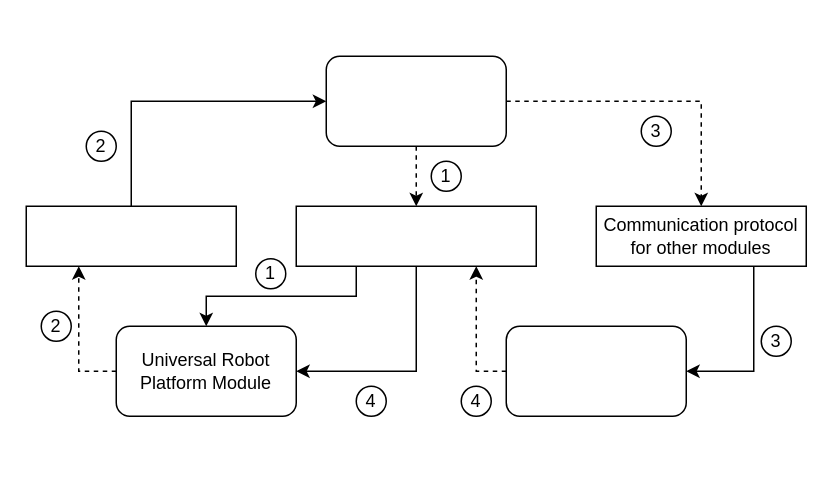
Image size: 833x486. Some labels were removed from this diagram. Each missing label, with the centre of its shape:
"Communication protocol for computer interface" goes at pixel 130 235.
"Communication protocol for Universal Robot platform" goes at pixel 415 235.
"Computer Interface Module" goes at pixel 415 100.
"Other modules" goes at pixel 595 370.
